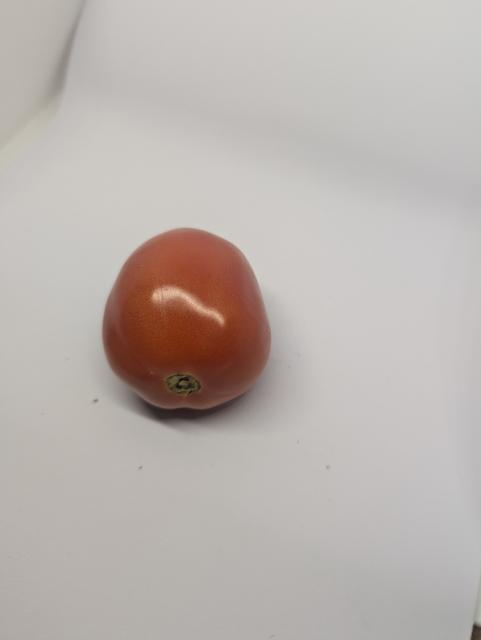red: (100, 226, 274, 412)
